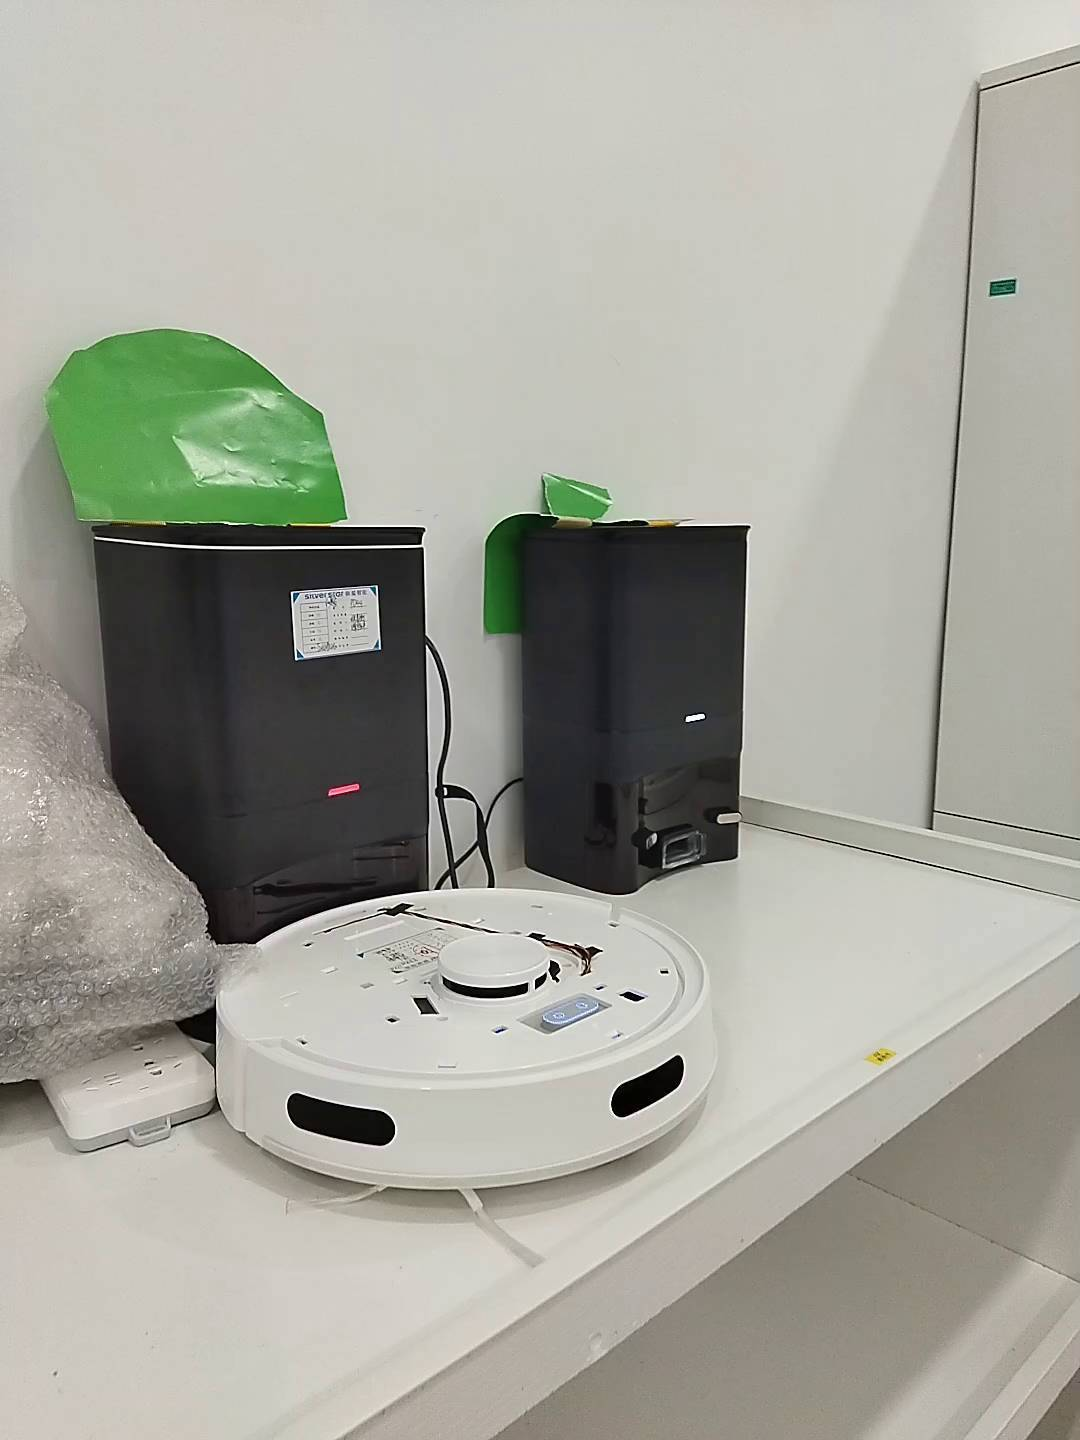dust collecting barrel: (88, 522, 429, 945), (513, 525, 754, 895)
